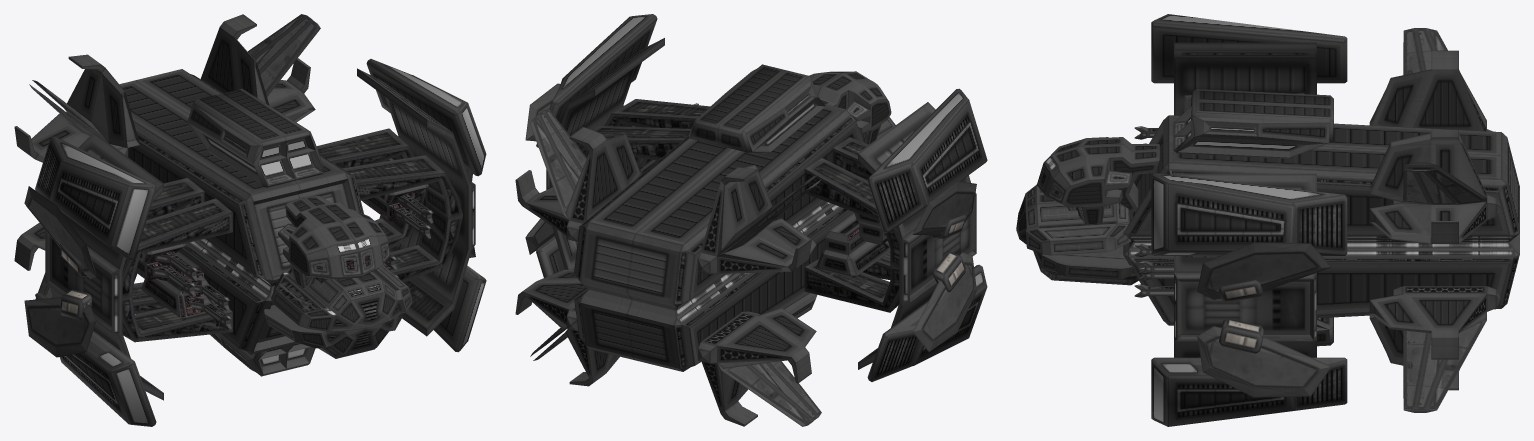
The model's file is omegaisTioCruiserA.FBX.
3 renders of one model, left to right at view 1: azimuth 30°, elevation 25°; view 2: azimuth 150°, elevation 25°; view 3: azimuth 270°, elevation 25°, orthographic. The views are drawn at different scales.
Visible parts, largest first — view 1: CruiserA; view 2: CruiserA; view 3: CruiserA.
Boxes of the visible parts, x1,y1,x2,y2 form: CruiserA: (14, 14, 486, 426); CruiserA: (515, 14, 987, 426); CruiserA: (1016, 14, 1519, 426).
Bounding box in the file's own units: 683 × 728 × 403.
